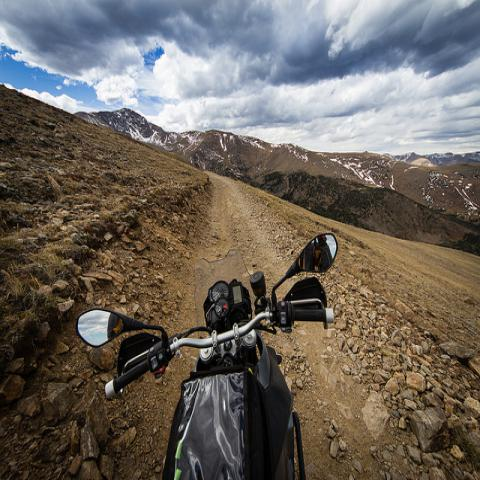motorcycle: (75, 231, 339, 479)
